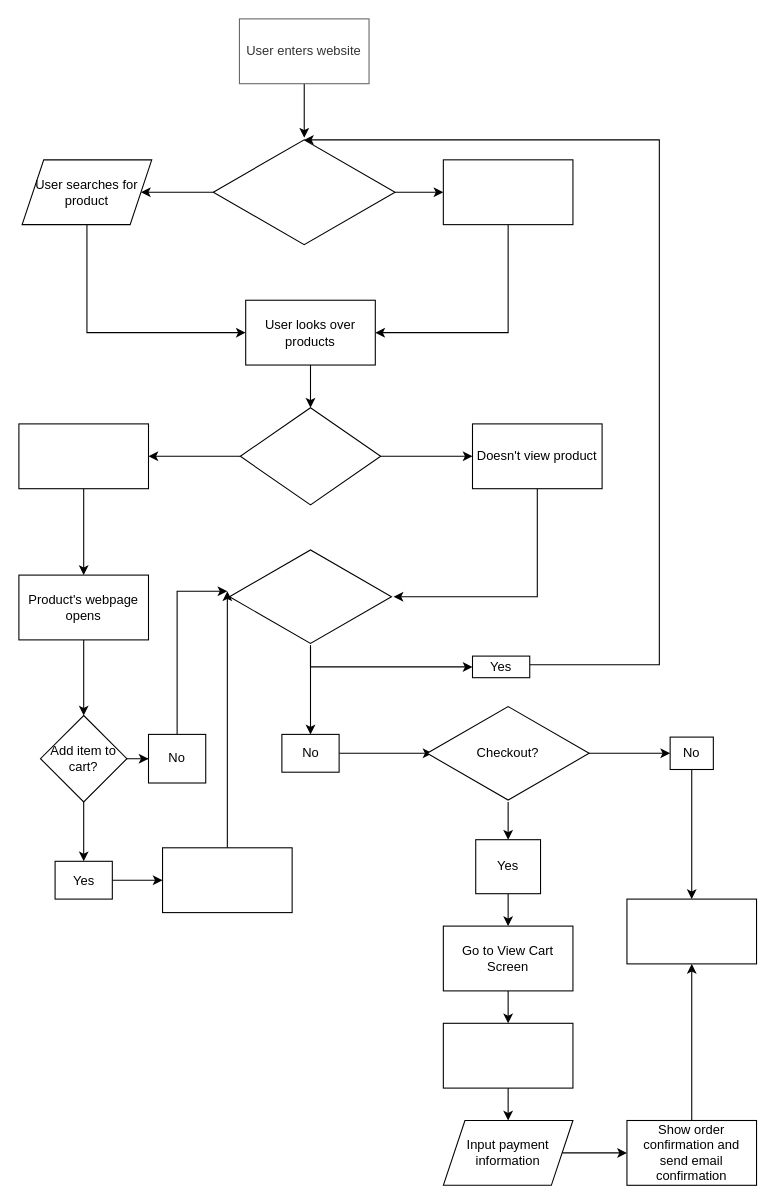
Image size: 775x1204. Some labels were removed from this diagram. Here are the shapes that lost their labels. From the top down, the centre of each, then its label:
At [303,192]: "User either searches product or explores products".
At [507,192]: "User explores products".
At [83,456]: "View product".
At [310,456]: "Option of viewing specific product".
At [310,596]: "Continue shopping?".
At [226,880]: "Added to cart confirmation".
At [691,931]: "Leave website".
At [507,1055]: "Go to View Payment Screen".
